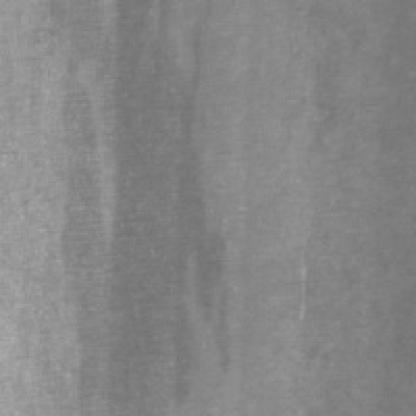inclusion: (160, 29, 237, 414)
